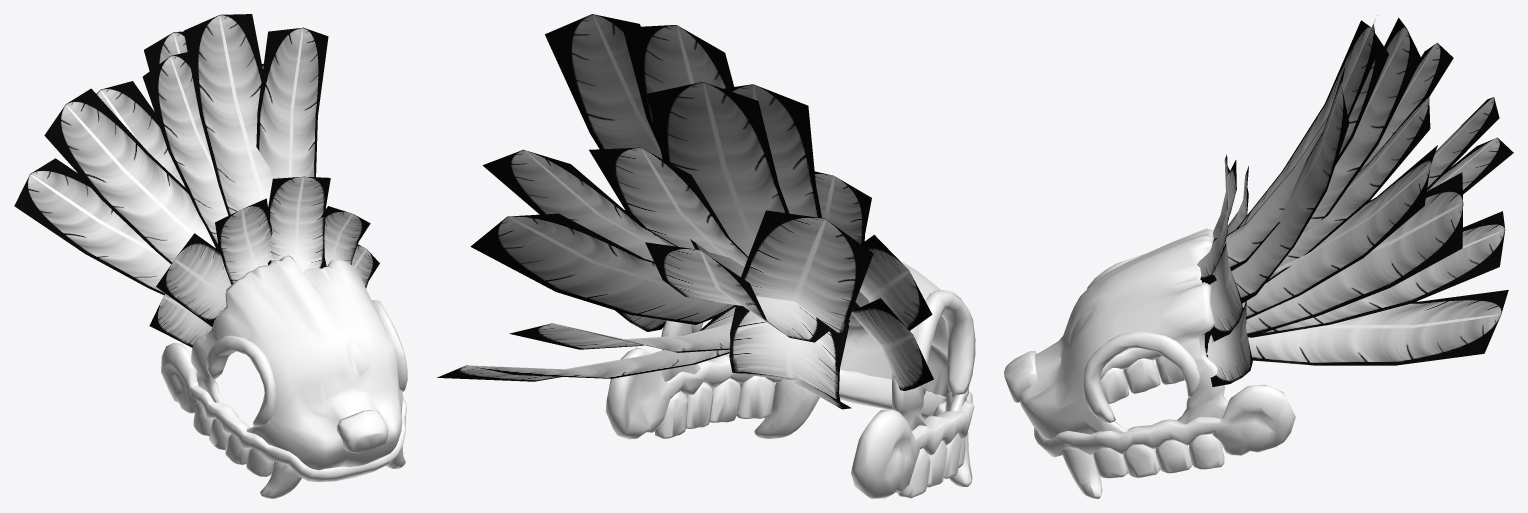
Rendered from TEMP_SM_Mask_P2_V2.fbx.
3 renders of one model, left to right at view 1: azimuth 30°, elevation 25°; view 2: azimuth 150°, elevation 25°; view 3: azimuth 270°, elevation 25°, orthographic. The views are drawn at different scales.
Parts seen in each view (by area): view 1: Feather_01, V2_Mask_Base_low, V2_Mask_Mouth_low, V2_Mask_Eyes_low, V2_Mask_Tooth_low, V2_Mask_Noise_low; view 2: Feather_01, V2_Mask_Mouth_low, V2_Mask_Tooth_low, V2_Mask_Base_low, V2_Mask_Eyes_low; view 3: Feather_01, V2_Mask_Base_low, V2_Mask_Mouth_low, V2_Mask_Tooth_low, V2_Mask_Eyes_low, V2_Mask_Noise_low.
Part boxes in pixels (<box>): Feather_01: <box>14,14,379,347</box>; V2_Mask_Base_low: <box>190,255,402,470</box>; V2_Mask_Mouth_low: <box>161,343,406,481</box>; V2_Mask_Eyes_low: <box>206,300,407,427</box>; V2_Mask_Tooth_low: <box>193,402,405,498</box>; V2_Mask_Noise_low: <box>337,410,388,453</box>; Feather_01: <box>437,14,933,409</box>; V2_Mask_Mouth_low: <box>605,347,974,498</box>; V2_Mask_Tooth_low: <box>654,375,972,498</box>; V2_Mask_Base_low: <box>661,261,969,431</box>; V2_Mask_Eyes_low: <box>691,289,975,395</box>; Feather_01: <box>1197,15,1513,386</box>; V2_Mask_Base_low: <box>1020,228,1228,439</box>; V2_Mask_Mouth_low: <box>1034,347,1295,457</box>; V2_Mask_Tooth_low: <box>1061,349,1224,498</box>; V2_Mask_Eyes_low: <box>1083,254,1200,422</box>; V2_Mask_Noise_low: <box>1004,351,1037,402</box>.
Bounding box in the file's own units: 26.64 × 35.04 × 36.79.
